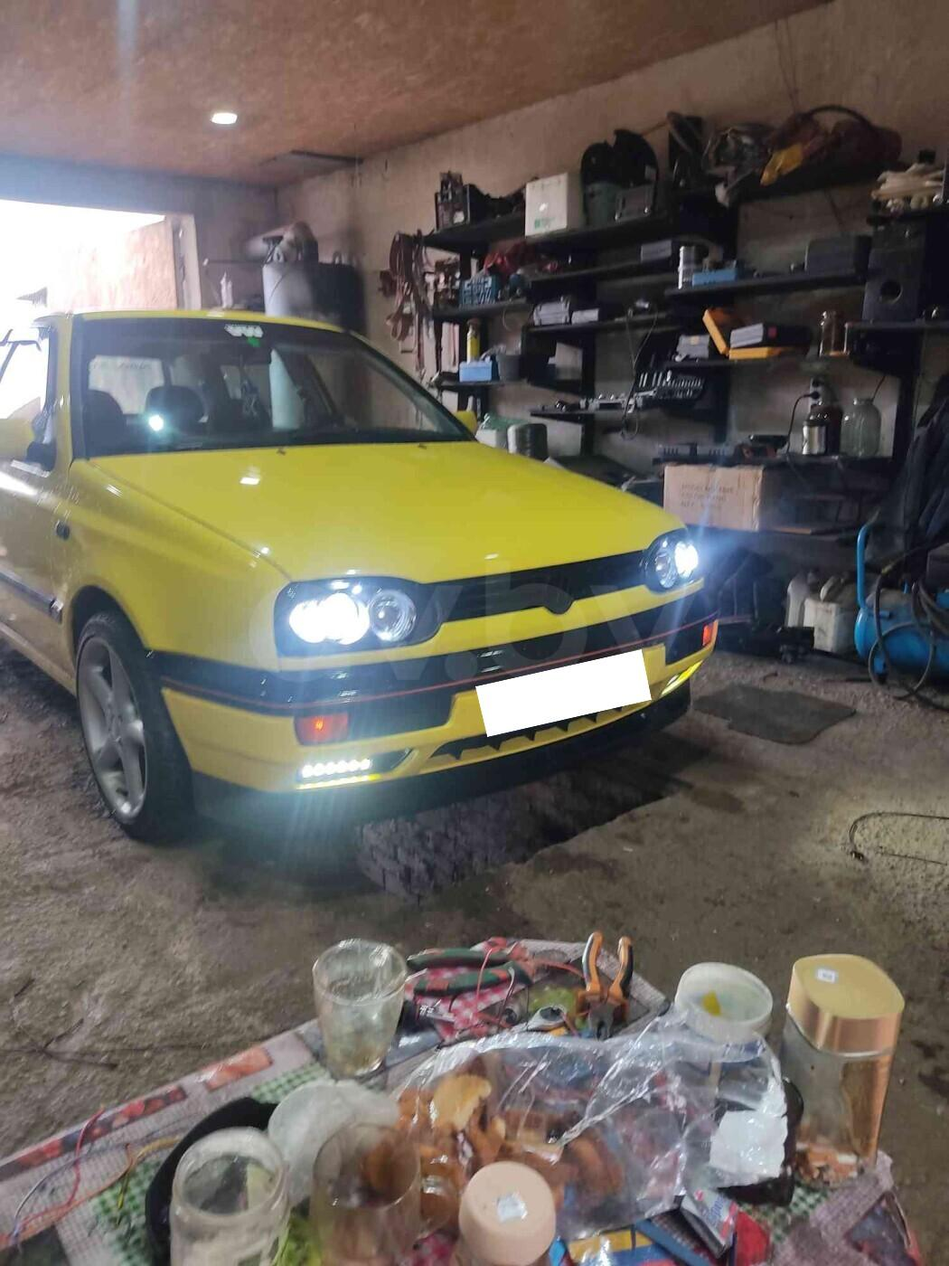Golf_1991-2000: (0, 299, 724, 832)
